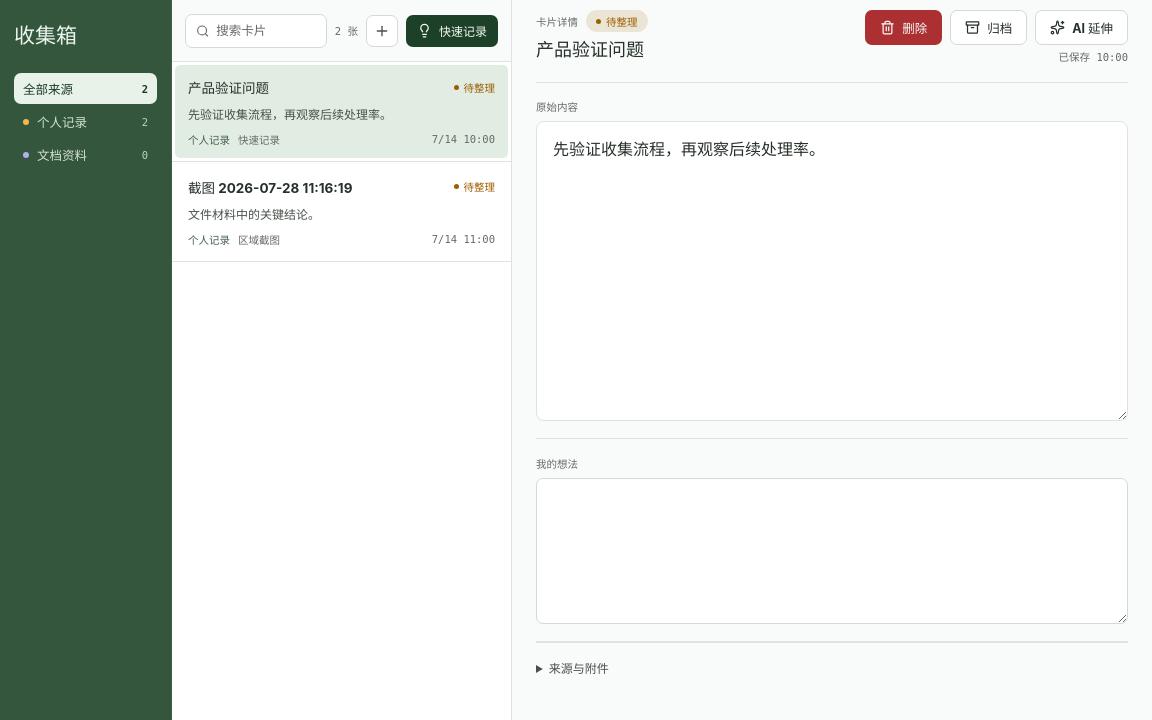
Test: InboxPage › refreshes the detail note when selecting another card
(page scrolled)
expect the text "产品验证问题" is shown: met, box [188,80,269,96]
Type "切换前保存" into the text box labelled "我的想法".
click(832, 551); type("切换前保存")  # box [536,478,1128,624]
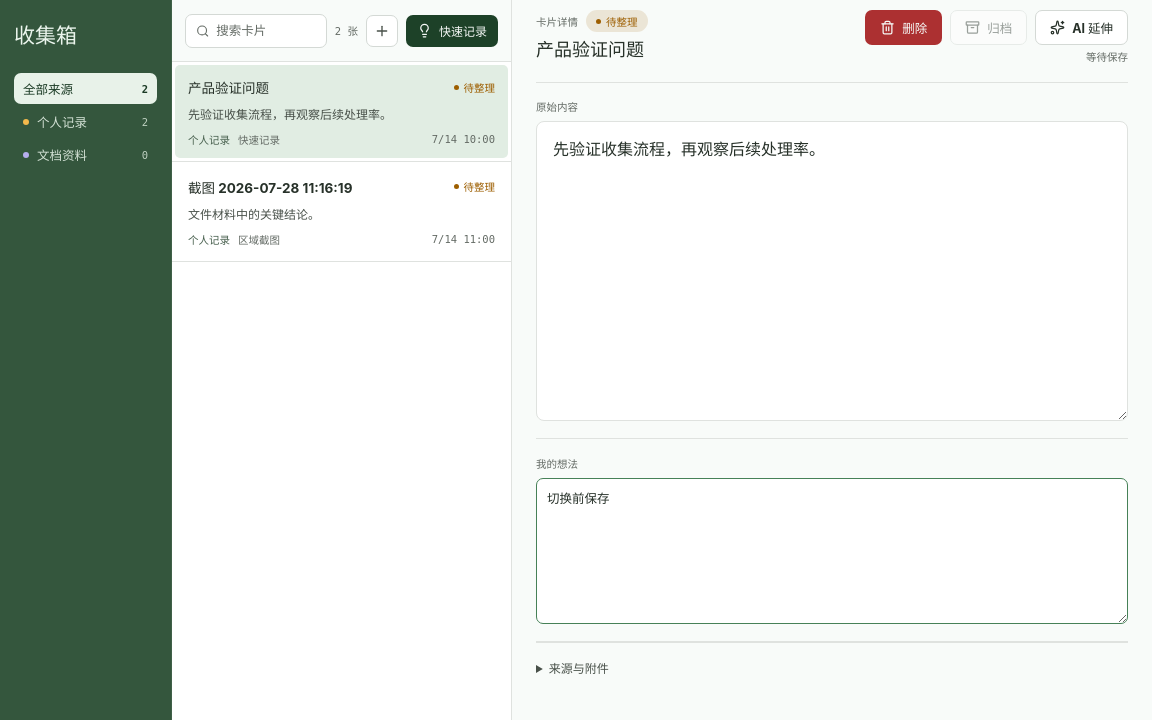
Click the button "截图 2026-07-28 11:16:19 待整理 文件材料中的关键结论。 个人记录 区域截图 7/14 11:00".
click(270, 188)  # box [172,162,511,261]
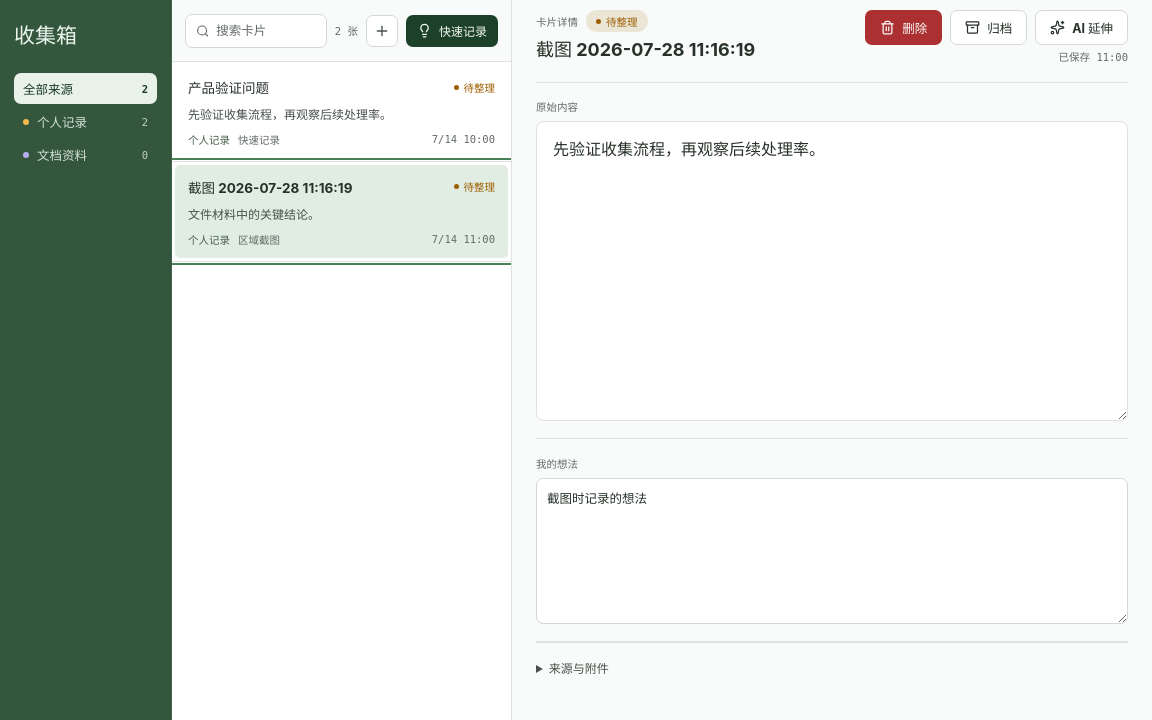
expect the text box labelled "我的想法" holds "截图时记录的想法": met, box [536,478,1128,624]
